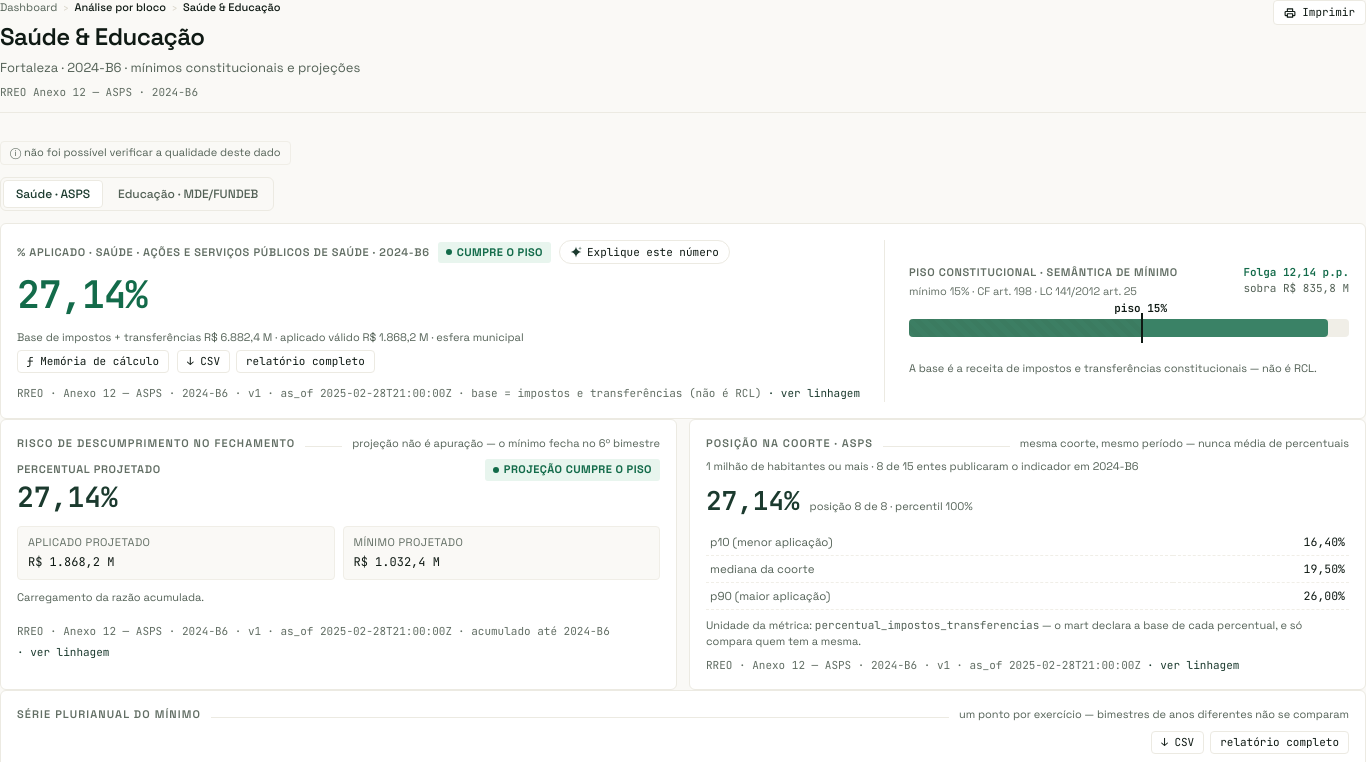
Saúde & Educação — uma tela com as sete respostas (Sprint 25C) › projeta o fechamento e sinaliza risco quando a trajetória fica abaixo do piso
Click the tab "Educação · MDE/FUNDEB".
click(188, 194)  # box x1=105 y1=180 x2=271 y2=208
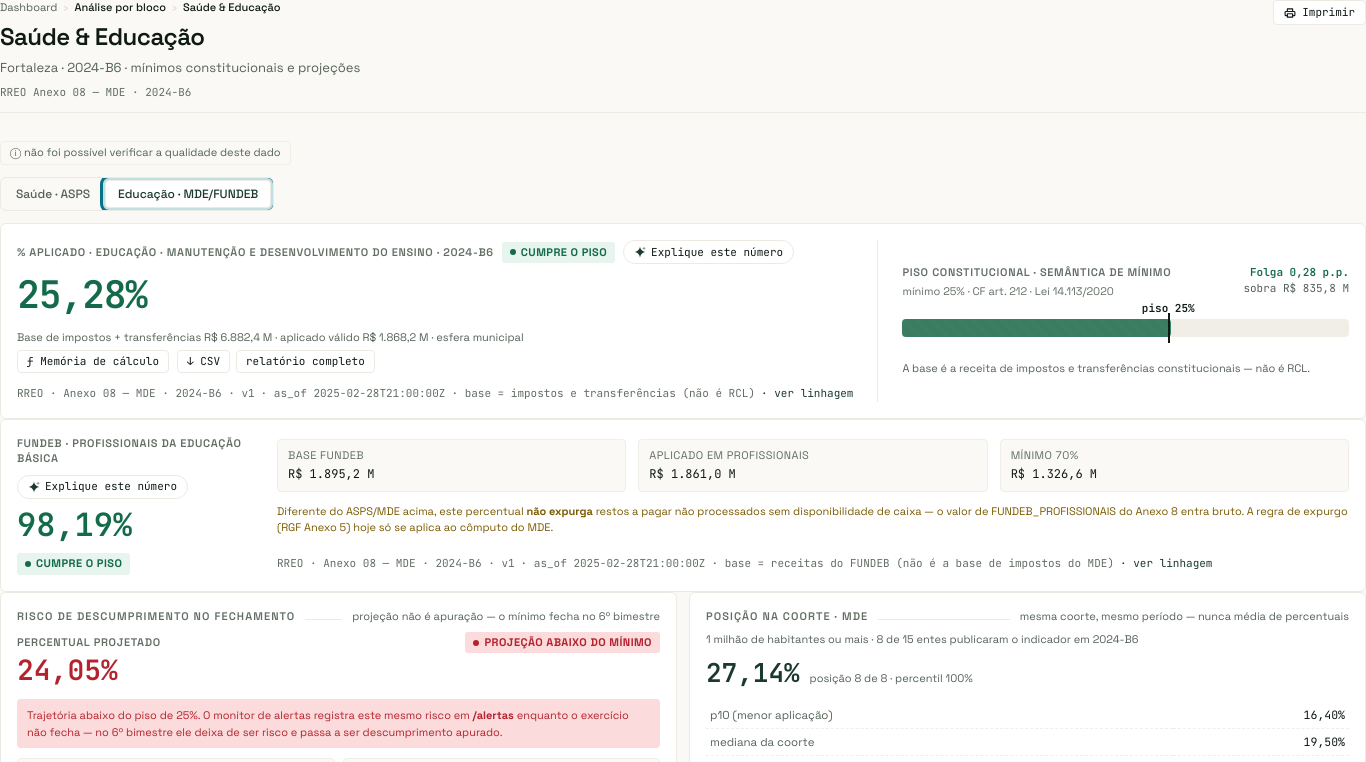
Check: the text "PROJEÇÃO ABAIXO DO MÍNIMO" is shown, box x1=465 y1=632 x2=660 y2=654
Check: the text with test id "pct-projetado" reads "24,05%", box x1=17 y1=651 x2=118 y2=688
Check: the text "deixa de ser risco e passa a ser descumprimento apurado" is shown, box x1=27 y1=708 x2=629 y2=739
